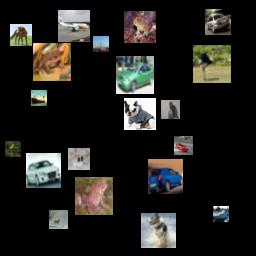airplane: (58, 10, 90, 42)
automobile: (116, 56, 154, 94), (148, 159, 183, 194), (26, 153, 61, 188), (205, 9, 231, 35)
bird: (193, 45, 231, 83), (5, 141, 21, 157)
cat: (161, 100, 180, 119)
deer: (49, 210, 68, 229)
dog: (141, 213, 176, 248), (124, 98, 156, 130), (68, 148, 90, 170)
frog: (75, 177, 113, 215), (33, 43, 71, 81), (124, 11, 156, 43)
ship: (174, 136, 193, 155), (31, 90, 47, 106), (93, 36, 109, 52), (213, 206, 229, 222)
